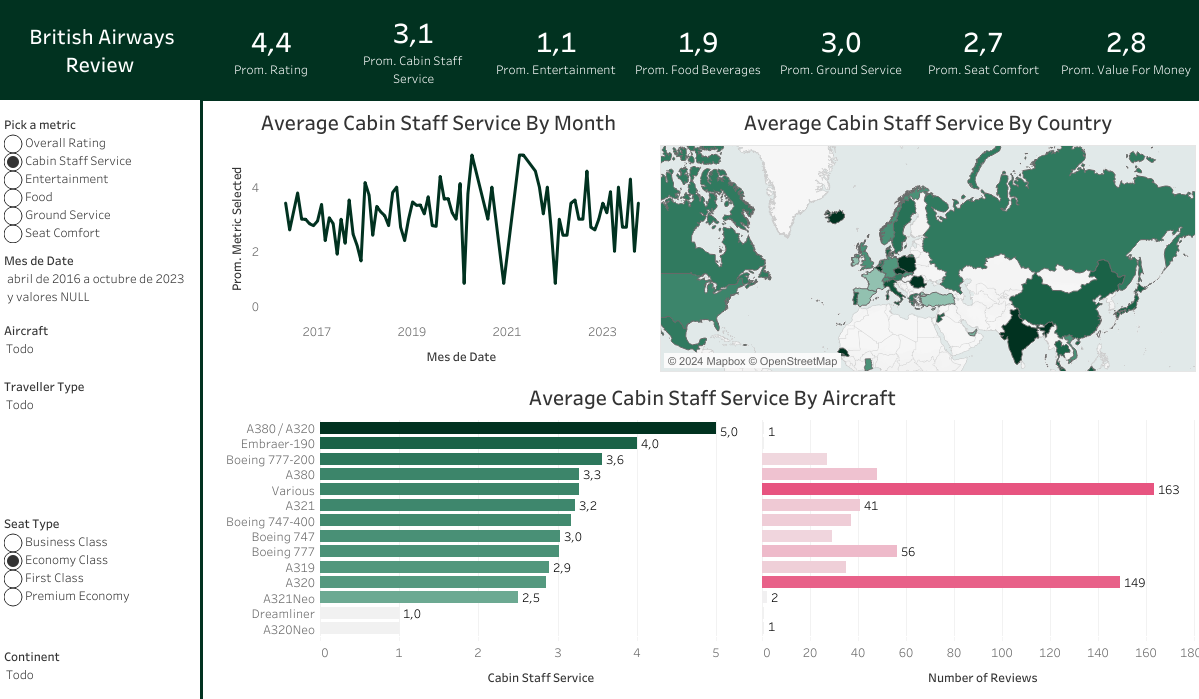

The dashboard page shown, as its layout file describes it:
{"tool":"tableau","page":{"name":"Dashboard 1","canvas":[1200,700],"ordinal":0},"visuals":[{"type":"text","box":[0,0,200,100]},{"type":"worksheet","title":"summary","mark":"Automatic","box":[200,0,998,100]},{"type":"blank","box":[200,100,3,600]},{"type":"worksheet","title":"month","mark":"Automatic","rows":["Calculation_1161928710351974400"],"cols":["date"],"box":[220,102,437,270]},{"type":"worksheet","title":"Map","mark":"Automatic","box":[660,102,536,270]},{"type":"parameter","param":"[Parameters].[Parámetro 1]","box":[0,110,200,144]},{"type":"filter","title":"Map","param":"[federated.084kj1r1xinju4129papk1j14cy3].[tmn:date:qk]","box":[0,254,200,69]},{"type":"filter","title":"Map","param":"[federated.084kj1r1xinju4129papk1j14cy3].[none:aircraft:nk]","box":[0,323,200,52]},{"type":"filter","title":"Map","param":"[federated.084kj1r1xinju4129papk1j14cy3].[none:traveller_type:nk]","box":[0,375,200,144]},{"type":"worksheet","title":"Aircraft","mark":"Automatic","cols":["Calculation_1161928710351974400","ba_reviews.csv_F55E201BF2B54BD0BB6530E1380A7691"],"box":[220,377,985,316]},{"type":"filter","title":"Map","param":"[federated.084kj1r1xinju4129papk1j14cy3].[none:seat_type:nk]","box":[0,519,200,127]},{"type":"filter","title":"Map","param":"[federated.084kj1r1xinju4129papk1j14cy3].[none:Continent:nk]","box":[0,646,200,52]}]}

Visuals, with their boxes in screenshot pixels (x1, y1, x2, y2), scaled from the page's 1200x700 canvas onto the 1199x699 screenshot:
text: (x1=0, y1=0, x2=200, y2=100)
"summary" worksheet: (x1=200, y1=0, x2=1197, y2=100)
blank: (x1=200, y1=100, x2=203, y2=698)
"month" worksheet: (x1=220, y1=102, x2=656, y2=371)
"Map" worksheet: (x1=659, y1=102, x2=1195, y2=371)
parameter: (x1=0, y1=110, x2=200, y2=254)
"Map" filter: (x1=0, y1=254, x2=200, y2=323)
"Map" filter: (x1=0, y1=323, x2=200, y2=374)
"Map" filter: (x1=0, y1=374, x2=200, y2=518)
"Aircraft" worksheet: (x1=220, y1=376, x2=1198, y2=692)
"Map" filter: (x1=0, y1=518, x2=200, y2=645)
"Map" filter: (x1=0, y1=645, x2=200, y2=697)
